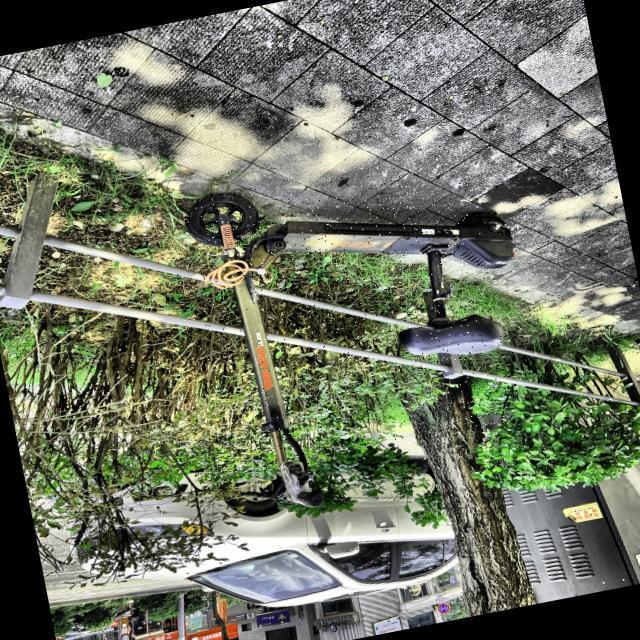bike: (1, 187, 516, 512)
